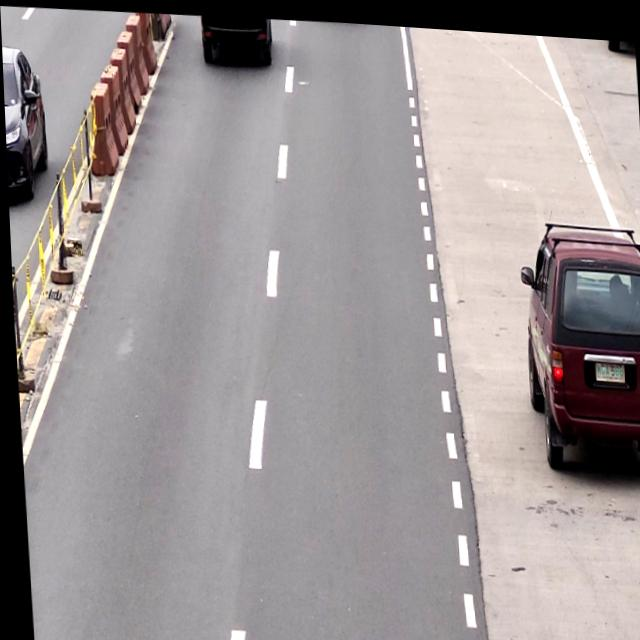Car: (515, 212, 640, 462), (197, 11, 275, 62)
License-Plate: (590, 348, 624, 373)
